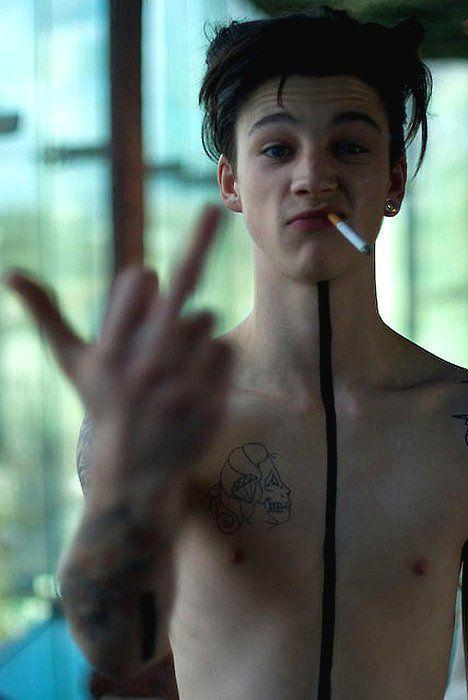cigarette: (326, 212, 372, 256)
